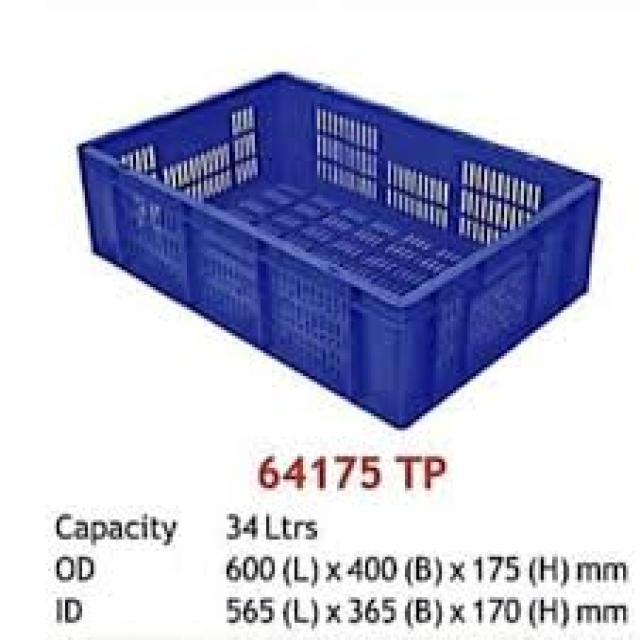basket: (27, 18, 624, 471)
